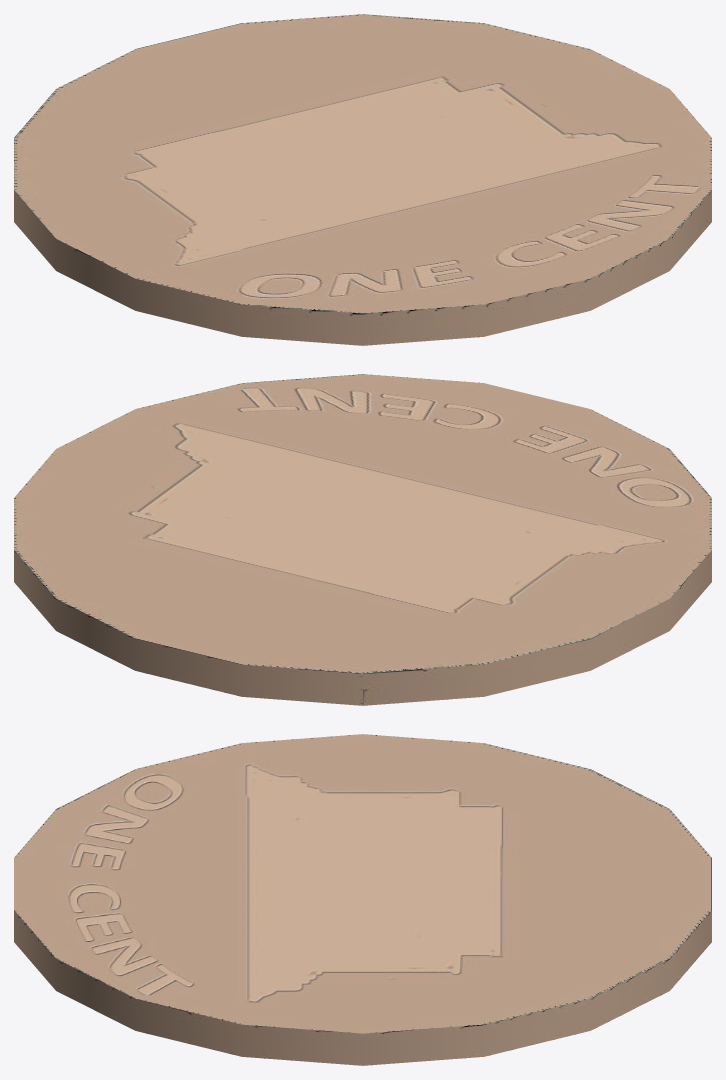
File: penny.FBX
3 renders of one model, top to bottom at view 1: azimuth 30°, elevation 25°; view 2: azimuth 150°, elevation 25°; view 3: azimuth 270°, elevation 25°, orthographic.
Parts seen in each view (by area): view 1: Cylinder001; view 2: Cylinder001; view 3: Cylinder001.
Boxes of the visible parts, bbox=[...] form: Cylinder001: bbox=[14, 14, 711, 345]; Cylinder001: bbox=[14, 374, 711, 705]; Cylinder001: bbox=[14, 734, 711, 1065].
Size of the model in its own units: 11.89 by 0.5962 by 11.71.
Materials: 1 (1 with a texture image).
